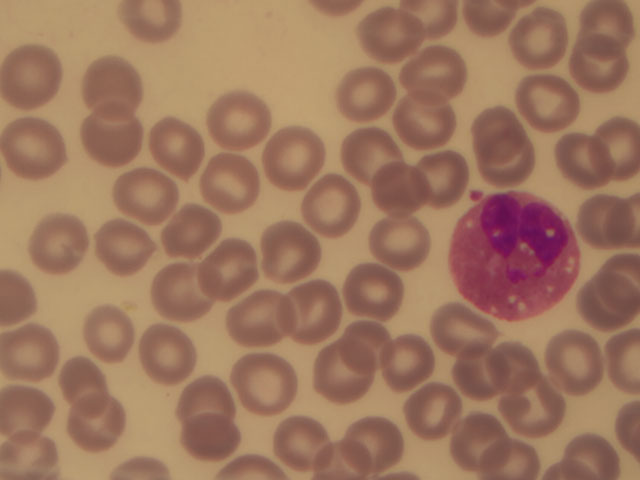RBC: (575, 116, 640, 180), (575, 193, 640, 257), (575, 261, 640, 325), (25, 214, 89, 278), (88, 213, 152, 277), (112, 166, 176, 230), (140, 115, 204, 179), (87, 108, 151, 172), (78, 50, 142, 114), (207, 86, 271, 150), (192, 146, 256, 210), (159, 200, 223, 264), (149, 260, 213, 324), (193, 238, 257, 302), (248, 221, 312, 285), (295, 176, 359, 240), (266, 126, 330, 190), (330, 125, 394, 189), (368, 161, 432, 225), (411, 144, 475, 208), (396, 98, 460, 162), (406, 46, 470, 110), (329, 59, 393, 123), (355, 4, 419, 68), (511, 6, 575, 70), (516, 69, 580, 133), (470, 106, 534, 170), (538, 123, 602, 187), (546, 329, 610, 393), (485, 339, 549, 403), (445, 343, 509, 407), (430, 303, 494, 367), (382, 330, 446, 394), (346, 316, 410, 380), (302, 346, 366, 410), (275, 278, 339, 342), (223, 293, 287, 357), (230, 346, 294, 410), (176, 369, 240, 433), (181, 402, 245, 466), (129, 323, 193, 387), (88, 304, 152, 368), (58, 346, 122, 410), (69, 406, 133, 470), (4, 323, 68, 387), (2, 380, 66, 444), (266, 403, 330, 467), (342, 409, 406, 473), (396, 378, 460, 442), (438, 404, 502, 468), (338, 261, 402, 325), (363, 212, 427, 276), (508, 381, 572, 445), (1, 45, 64, 109), (1, 116, 64, 180)
WBC: (451, 191, 581, 324)
